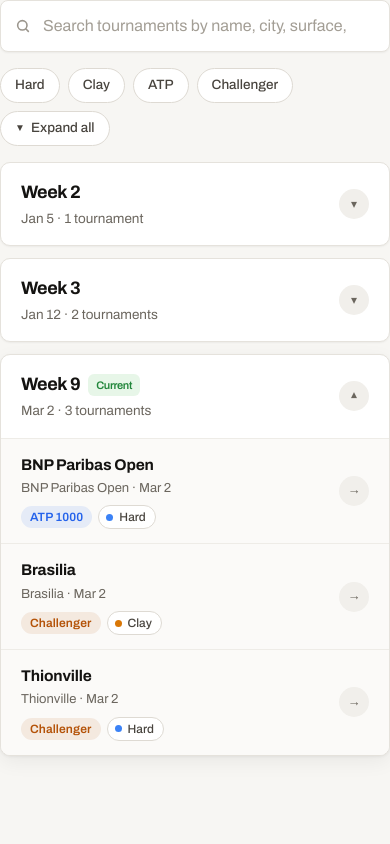
Test: WeekTournamentPicker pill filtering › restores all rows, weeks and counts when the pill is toggled off
Click the button "Challenger" at [245, 85], box [197,68,293,103]
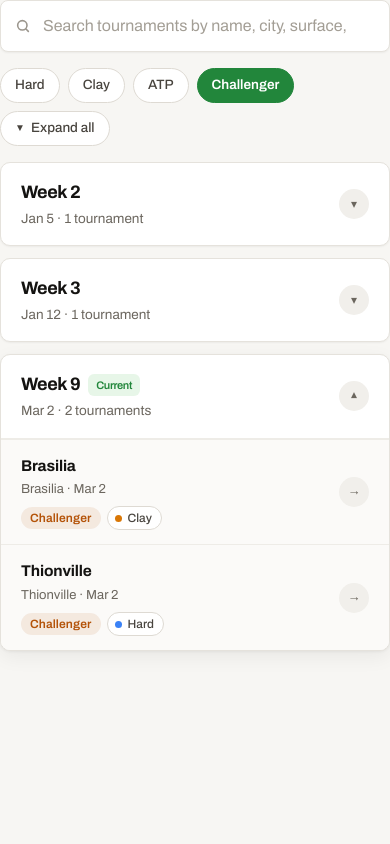
Click the button "Challenger" at [246, 85], box [197,68,294,103]
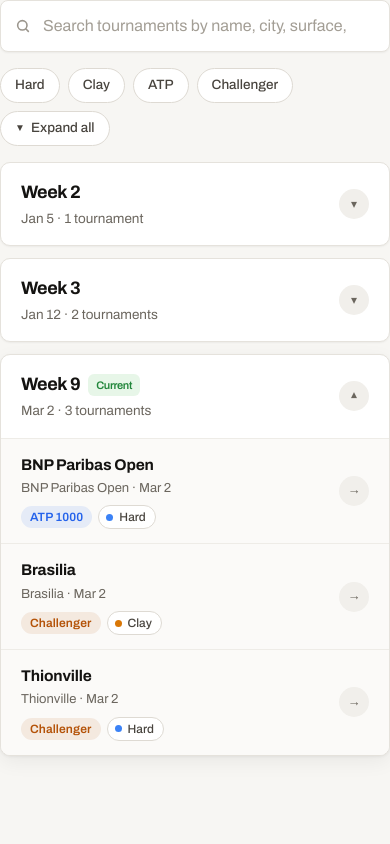
Expected: the text "3 tournaments" is shown, [65,403,151,418]
